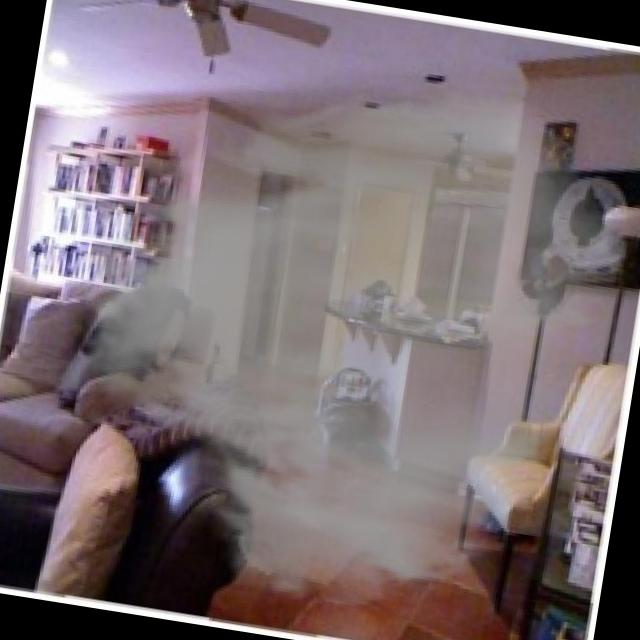Smoke: (15, 25, 640, 640)
